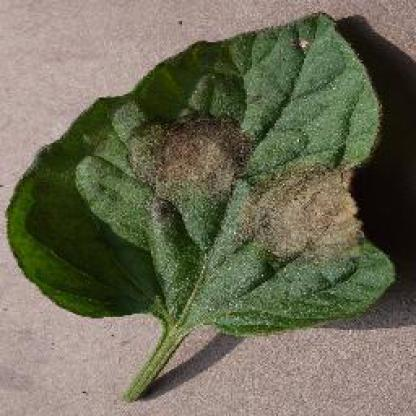bad leaf: (52, 19, 386, 313)
